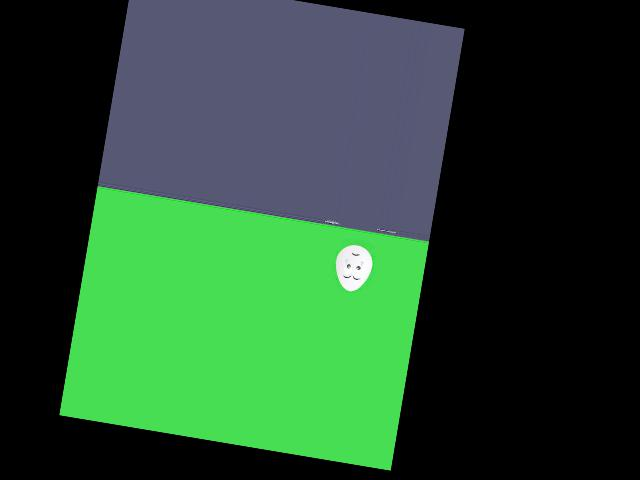egg: (331, 242, 375, 293)
